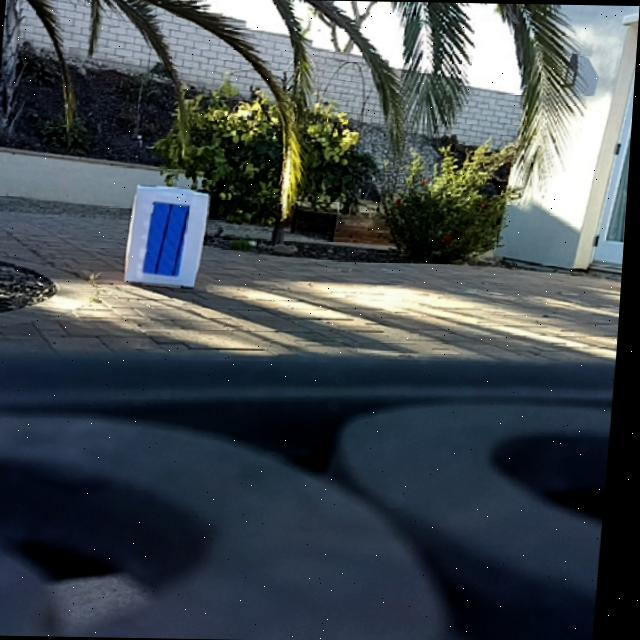led: (150, 197, 194, 280)
